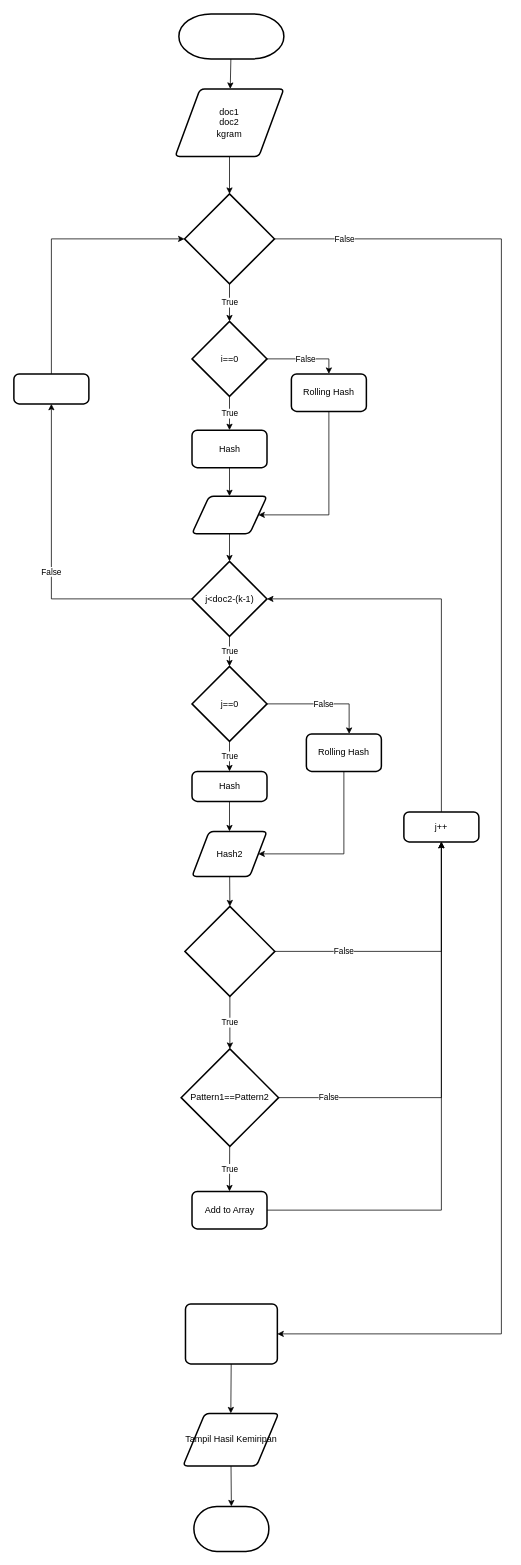
This 521x1565 diagram has some shape labels left out. Each missing label, with the box of its shape:
Dice Similarity Coefficient: (184, 1303, 278, 1364)
hash1: (191, 495, 267, 534)
Hash1==Hash2: (184, 905, 275, 997)
i++: (13, 373, 89, 404)
i<doc1-(k-1): (183, 193, 275, 284)
Mulai: (178, 13, 284, 59)
Selesai: (193, 1505, 269, 1552)
